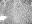person: (1, 14, 6, 21)
